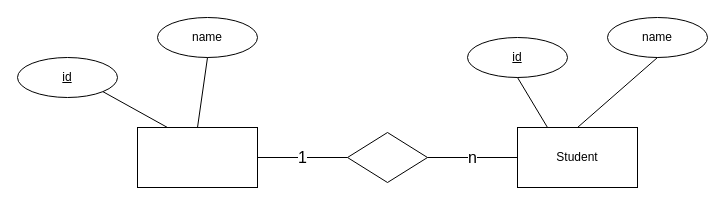
This 725x205 diagram has some shape labels left out. The shapes that lost their labels are listed below. From the top down, each one's box as (x1, y1, x2, y2) in pixels, then its label:
(136, 126, 258, 188): Teacher
(346, 132, 428, 182): has
